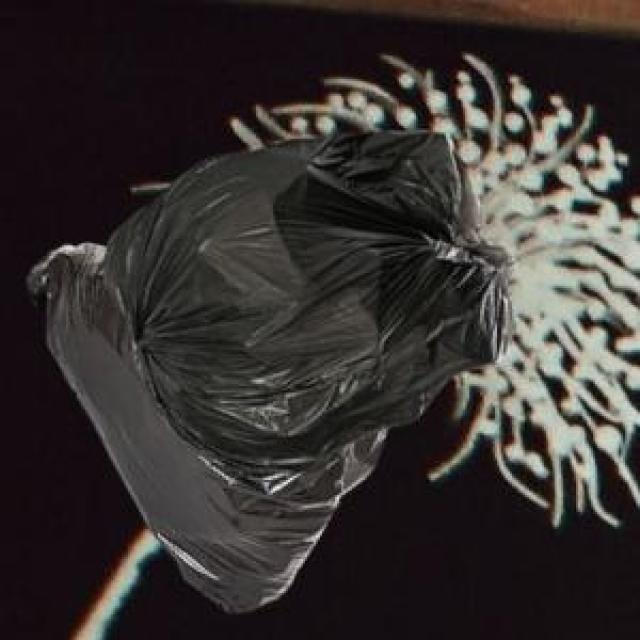Vinyl: (28, 131, 508, 612)
